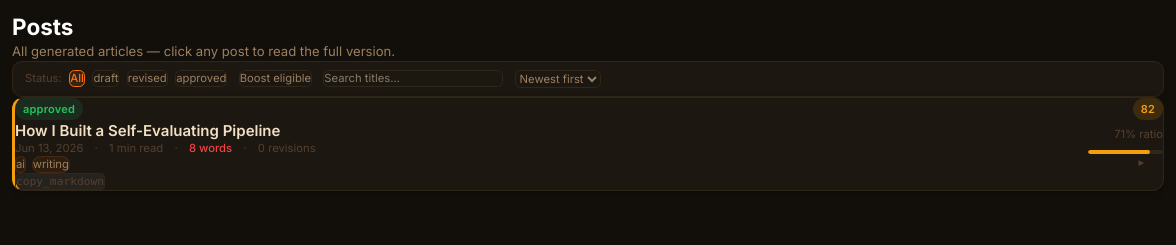
Scenario: PostsPage › Search › shows empty state when search matches no posts
This screenshot has width=1176, height=245.
Expected: the link with test id "post-card" is shown, x1=12 y1=97 x2=1164 y2=191
Type "xyznotfound" into the field with test id "search-input" at (413, 79), box x1=323 y1=70 x2=503 y2=87
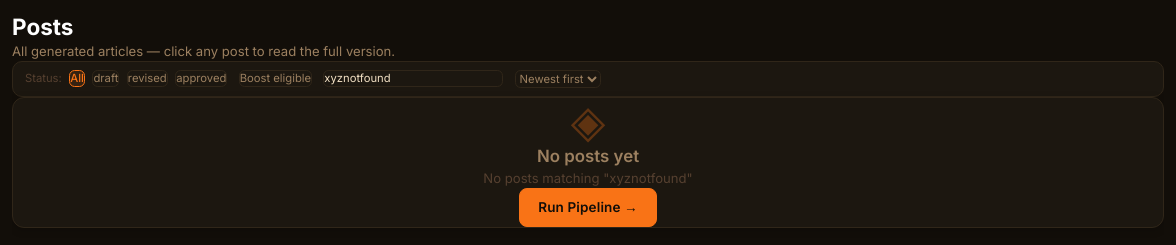
Result: the link with test id "post-card" is gone
Result: the element with test id "empty-state" is shown at x1=12 y1=97 x2=1164 y2=228
